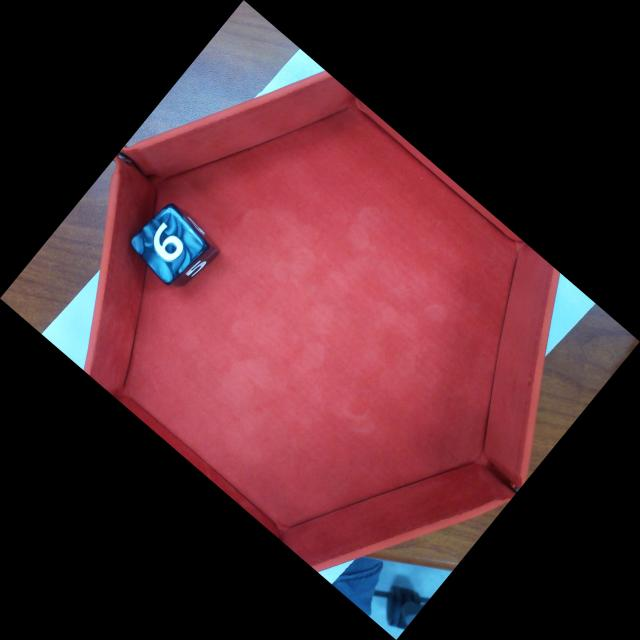dice: (129, 208, 208, 284)
